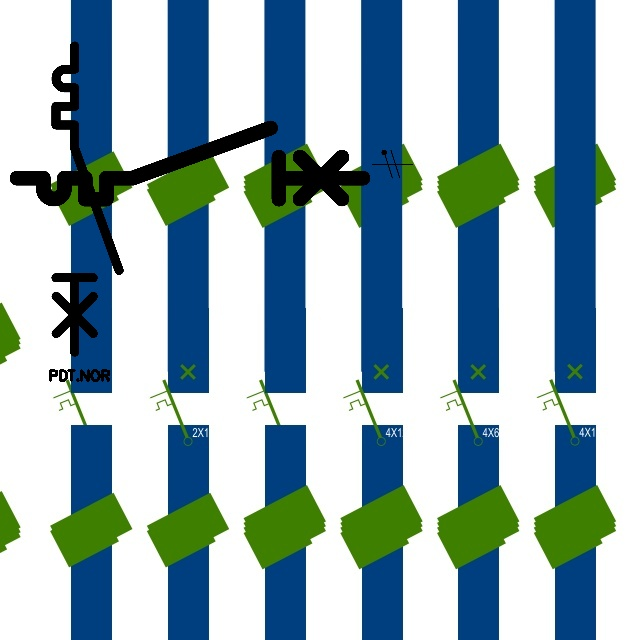interruptor_termomagnetico: (8, 119, 371, 208), (48, 38, 127, 360)
